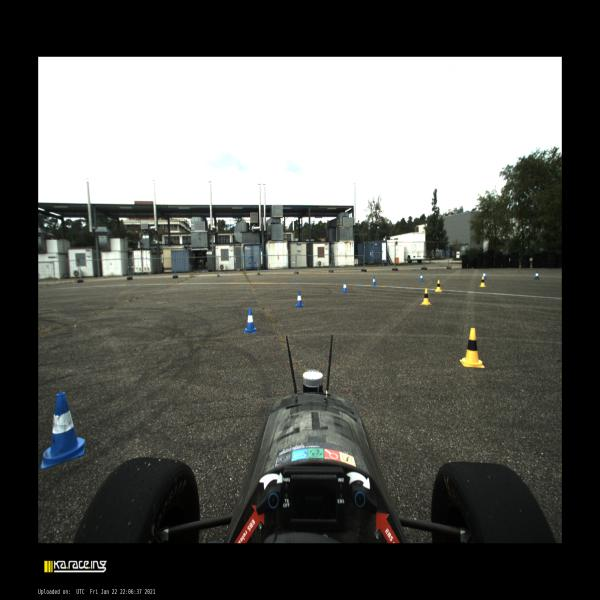blue_cone: (41, 392, 85, 469), (244, 309, 257, 333), (294, 291, 304, 308), (342, 281, 348, 293), (482, 270, 487, 280), (534, 271, 539, 280), (372, 276, 376, 286), (419, 273, 424, 281)
yellow_cone: (459, 328, 484, 368), (421, 289, 431, 305), (435, 279, 442, 292), (479, 276, 486, 287)
